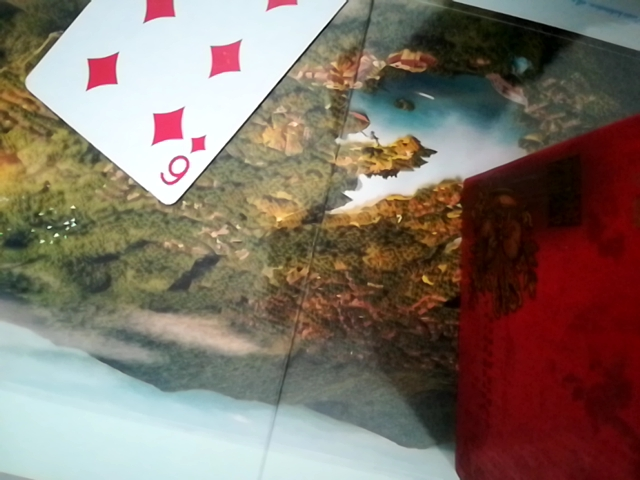fk 6: (16, 0, 361, 217)
